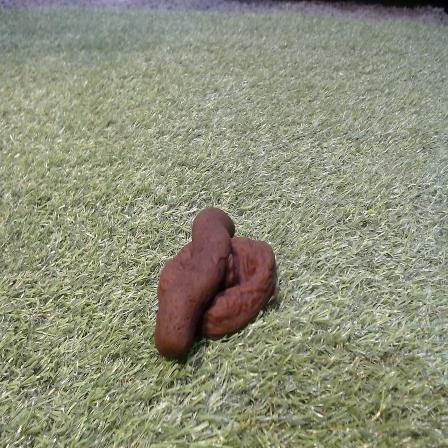dog-poop: (144, 192, 283, 366)
